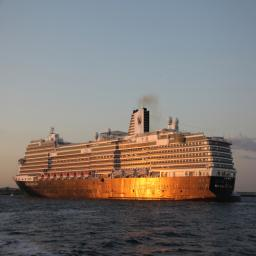cruises: (12, 106, 238, 205)
